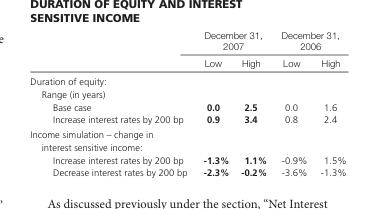table: (29, 28, 345, 177)
table column: (29, 28, 194, 177), (194, 28, 234, 177), (273, 28, 313, 177), (234, 28, 273, 177), (313, 28, 345, 177)
table column header: (29, 28, 345, 72)
table projected row header: (29, 126, 345, 152), (29, 72, 345, 87), (29, 87, 345, 100)
table row: (29, 28, 345, 54), (29, 126, 345, 152), (29, 54, 345, 72), (29, 72, 345, 87), (29, 112, 345, 126), (29, 87, 345, 100), (29, 152, 345, 165), (29, 100, 345, 112), (29, 165, 345, 177)
table spanning cell: (194, 28, 273, 54), (273, 28, 345, 54)
